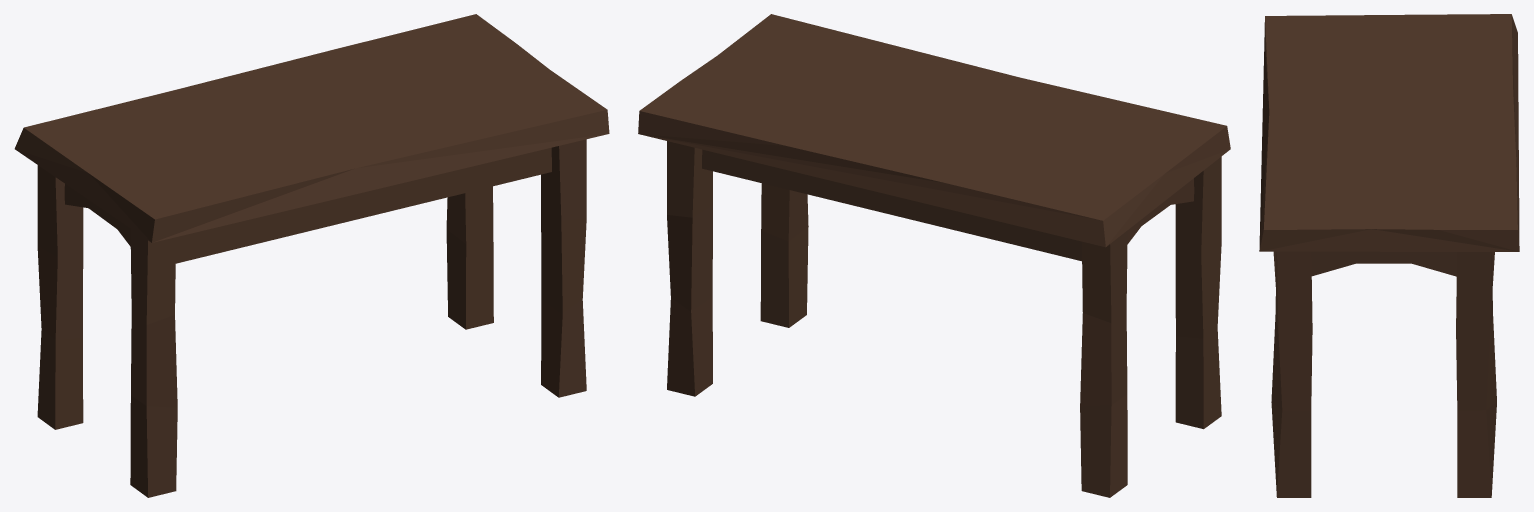
The model's file is Стол кухонный2.fbx.
3 views of the same model, side by side, from view 1: azimuth 30°, elevation 25°; view 2: azimuth 150°, elevation 25°; view 3: azimuth 270°, elevation 25° (orthographic). The views are drawn at different scales.
Visible parts, largest first — view 1: Cube.014; view 2: Cube.014; view 3: Cube.014.
Part boxes in pixels (box(x1,y1,x2,y2)): Cube.014: box(14, 14, 609, 497); Cube.014: box(638, 14, 1230, 497); Cube.014: box(1259, 14, 1519, 497).
Bounding box in the file's own units: 406 × 237 × 204.
